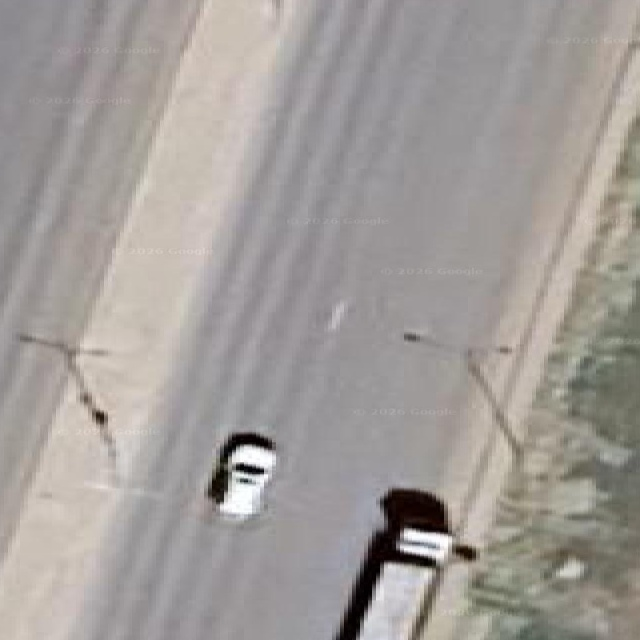car: (335, 488, 475, 639), (359, 488, 475, 639), (380, 488, 475, 567), (207, 432, 275, 519), (395, 526, 452, 564)
